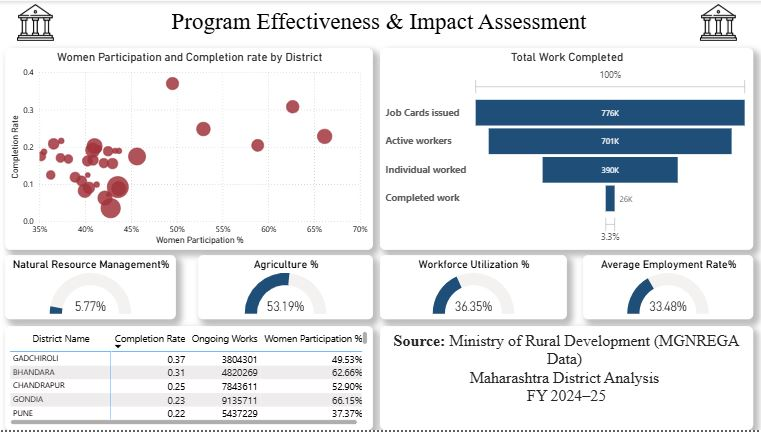

What the dashboard file says about the page in this screenshot:
{"tool":"powerbi","page":{"name":"Page 2","canvas":[1280,720],"ordinal":1},"visuals":[{"type":"scatterChart","title":"Women Participation and Completion rate by District","fields":{"Size":["Sum(project2.Wages)"],"Category":["project2.district_name"],"X":["project2.Women Participation %"],"Y":["project2.Completion Rate"]},"box":[10.1,79,618.2,339.3],"z":0},{"type":"gauge","title":"Natural Resource Management%","fields":{"Y":["project2.Avg NRM %"]},"box":[10.1,426.7,287.2,107.5],"z":1000},{"type":"gauge","title":"Agriculture %","fields":{"Y":["project2.Avg Agriculture %"]},"box":[334.3,426.7,294,107.5],"z":2000},{"type":"funnel","title":"Total Work Completed","fields":{"Y":["project2.Max Job Cards issued","project2.Max Active workers","project2.Max of Individual worked","project2.Max of completed work"]},"box":[640,79,626.6,339.3],"z":3000},{"type":"pivotTable","fields":{"Values":["project2.Completion Rate","Sum(project2.Number_of_Ongoing_Works)","project2.Women Participation %"],"Rows":["project2.district_name"]},"box":[10.1,545.9,618.2,174.7],"z":4000},{"type":"gauge","title":"Average Employment Rate%","fields":{"Y":["project2.Average Employment Achievement %"]},"box":[981,426.7,285.6,107.5],"z":5000},{"type":"shape","box":[10.1,0,1256.5,67.2],"z":6000},{"type":"gauge","fields":{"Y":["project2.Workforce Utilization %"]},"box":[640,426.7,314.1,107.5],"z":7000},{"type":"textbox","box":[640,545.9,626.6,174.7],"z":8000},{"type":"image","box":[25.2,0,72.2,72.2],"z":9000},{"type":"image","box":[1172.5,0,72.2,72.2],"z":10000}]}

Visuals, with their boxes in screenshot pixels (x1, y1, x2, y2), scaled from the page's 1280x720 canvas onto the 761x432 screenshot:
"Women Participation and Completion rate by District" scatterChart: rect(6, 47, 374, 251)
"Natural Resource Management%" gauge: rect(6, 256, 177, 321)
"Agriculture %" gauge: rect(199, 256, 374, 321)
"Total Work Completed" funnel: rect(380, 47, 753, 251)
pivotTable - project2.Completion Rate x Sum(project2.Number_of_Ongoing_Works): rect(6, 328, 374, 431)
"Average Employment Rate%" gauge: rect(583, 256, 753, 321)
shape: rect(6, 0, 753, 40)
gauge - project2.Workforce Utilization %: rect(380, 256, 567, 321)
textbox: rect(380, 328, 753, 431)
image: rect(15, 0, 58, 43)
image: rect(697, 0, 740, 43)
